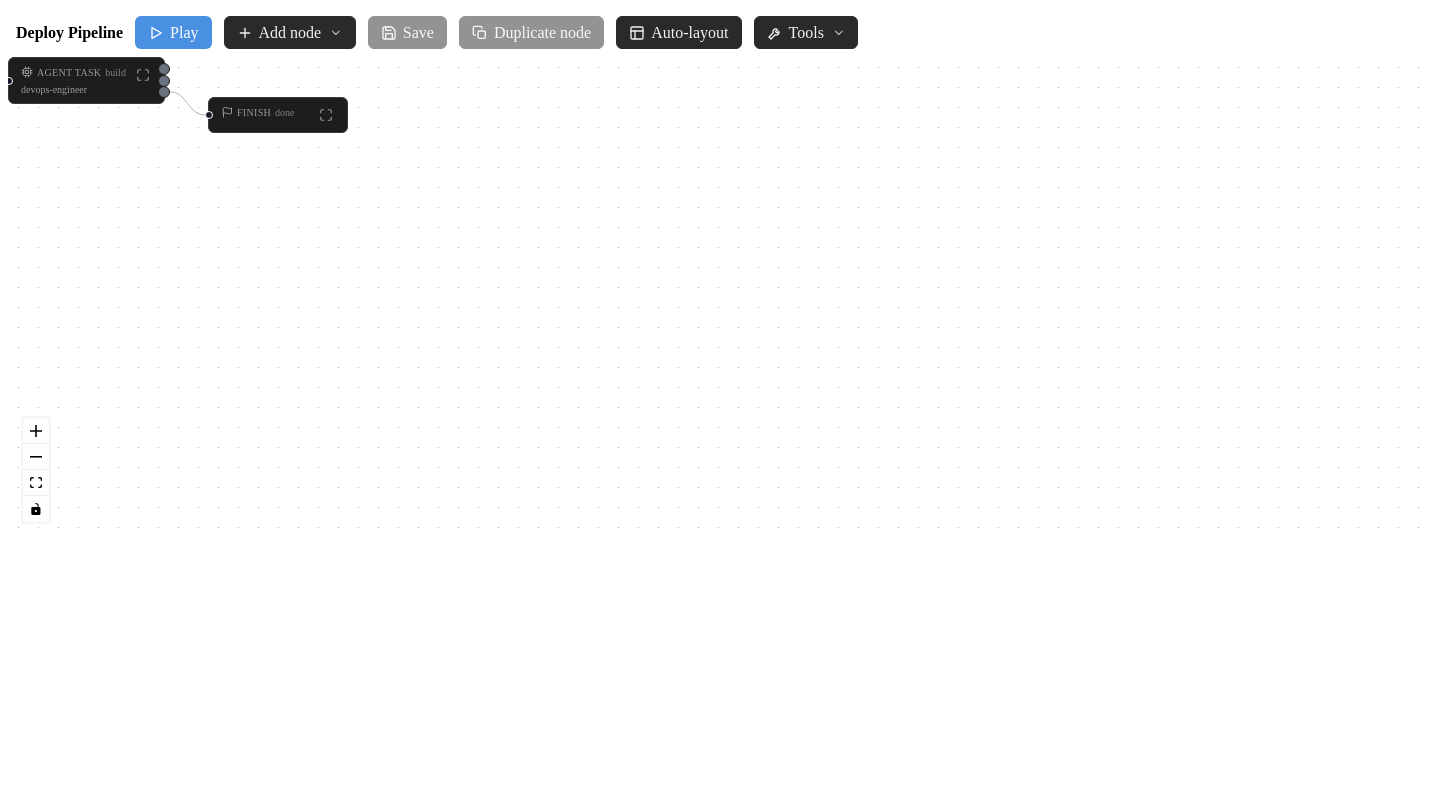
it: FlowEditor template params › blocks the run and shows an error when a required param is empty
Click the button "Play". click: (173, 33)
box: [135, 16, 212, 49]
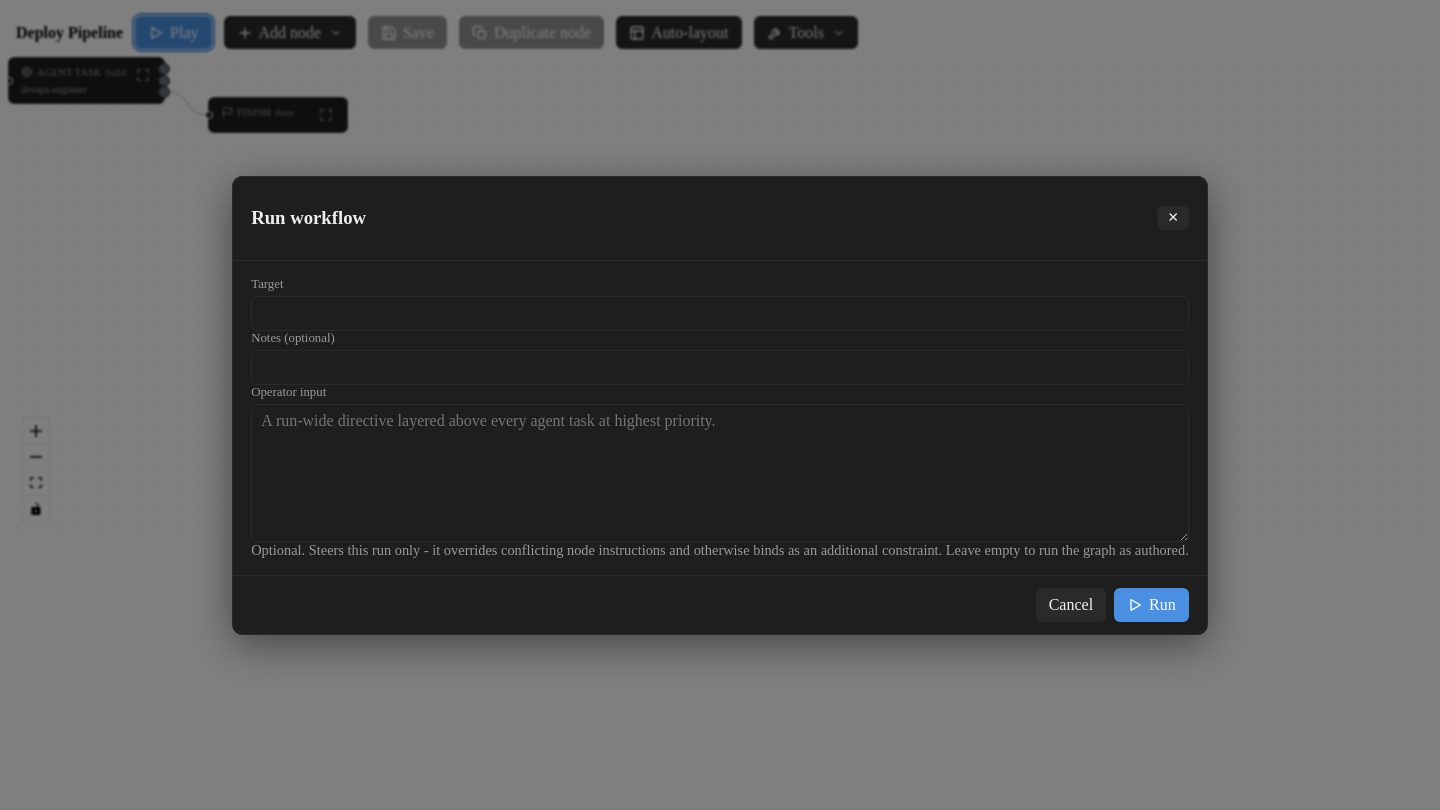
Click the button "Run". click: (1151, 605)
box: [1114, 588, 1189, 622]
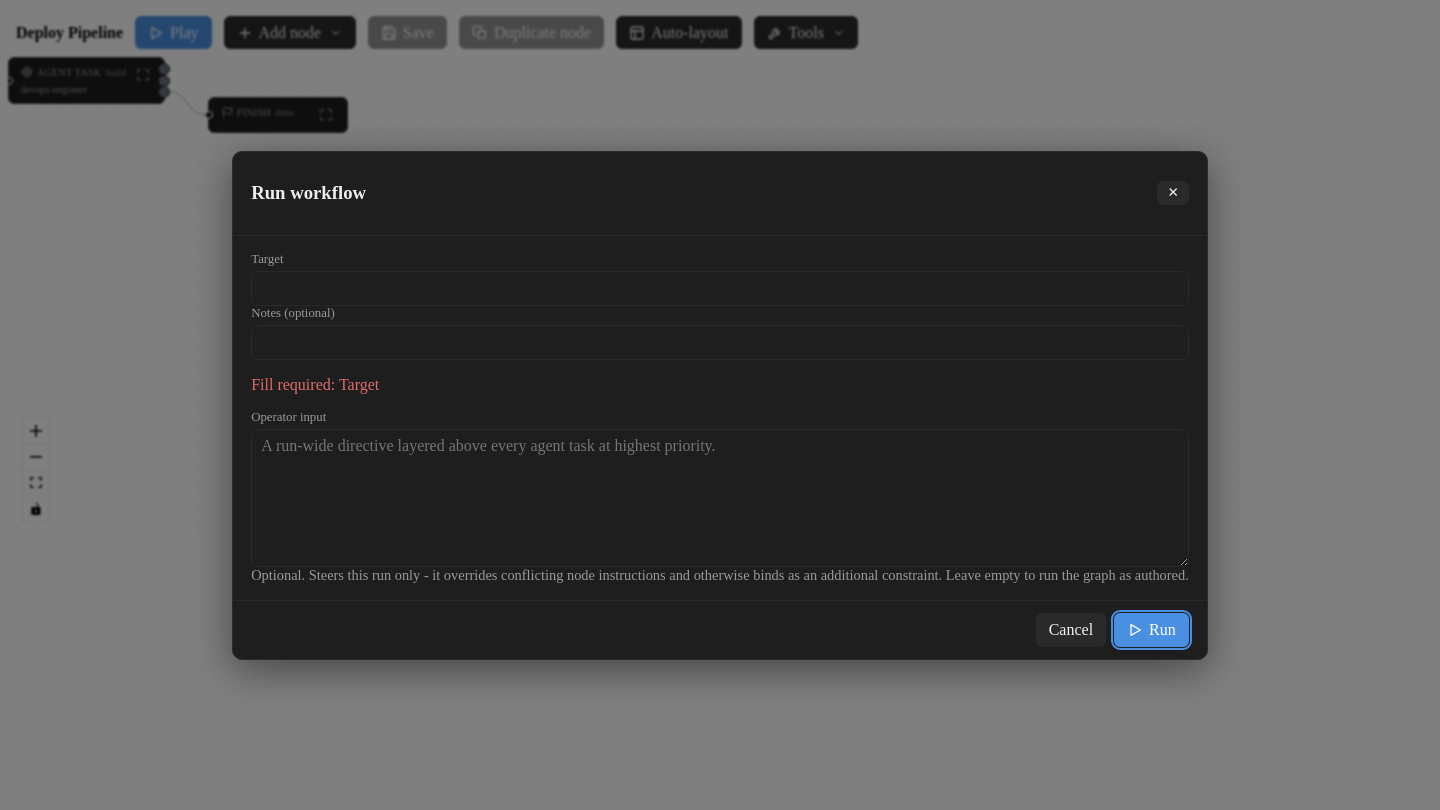
Expected: the message "Fill required: Target" is shown, [251, 376, 379, 392]
